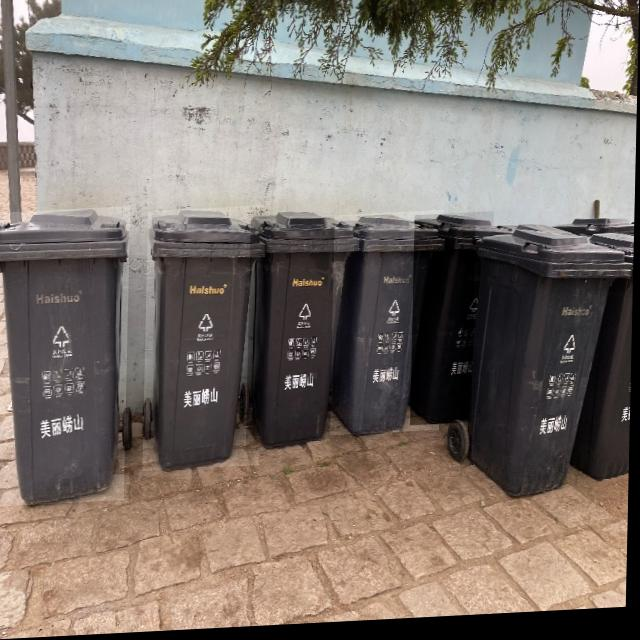garbage_bin: (472, 225, 632, 507), (0, 207, 131, 507), (145, 208, 265, 473), (248, 210, 361, 453), (332, 215, 445, 439), (412, 217, 495, 430), (574, 238, 635, 488)
